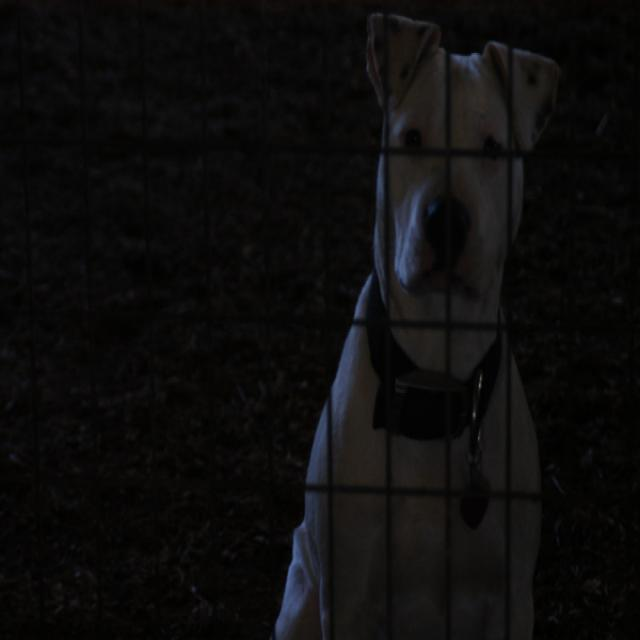Dog: (324, 28, 640, 640)
